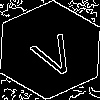V: (25, 25, 81, 80)
